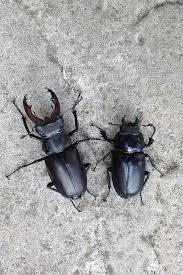Insects: (4, 80, 101, 212), (86, 110, 161, 209)
